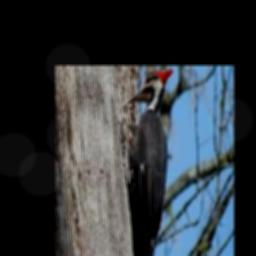Woodpecker: (125, 69, 173, 256)
